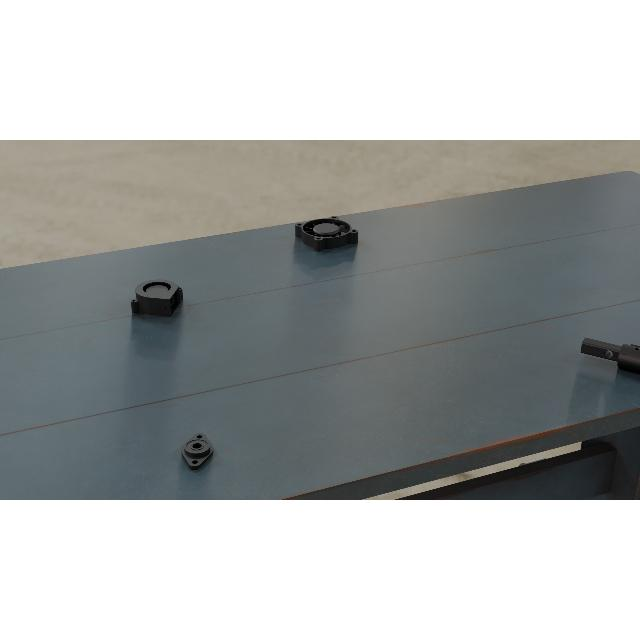Pieza1: (578, 329, 640, 407)
Pieza2: (178, 430, 216, 470)
Pieza3: (128, 278, 184, 318)
Pieza4: (293, 215, 361, 253)
